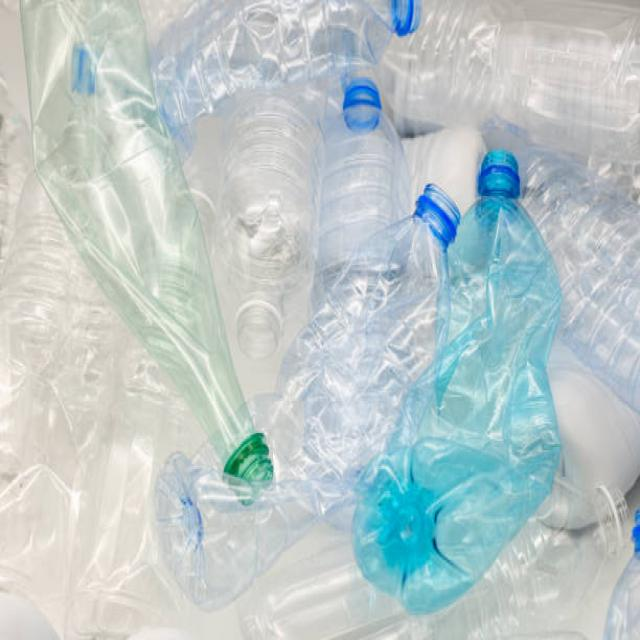plastic: (9, 14, 618, 620)
